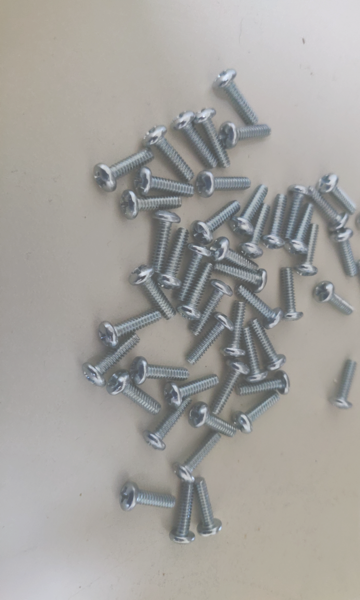shortscrew: (81, 332, 140, 388), (143, 125, 195, 183), (143, 397, 192, 452), (129, 265, 177, 321), (188, 279, 234, 337), (172, 431, 222, 484), (94, 149, 154, 193), (174, 111, 218, 170), (213, 69, 259, 125), (99, 309, 163, 349), (187, 312, 234, 366), (107, 370, 161, 415), (174, 242, 213, 304), (210, 358, 250, 415), (190, 200, 241, 244), (194, 109, 232, 168), (211, 358, 250, 415), (178, 262, 214, 321), (236, 285, 283, 330), (155, 228, 189, 290), (233, 391, 280, 435), (230, 183, 268, 237), (249, 319, 287, 371), (151, 210, 181, 274), (164, 375, 220, 409), (307, 186, 349, 231), (120, 190, 182, 220), (188, 402, 238, 439), (209, 237, 260, 273), (193, 478, 223, 537), (240, 203, 271, 259), (170, 482, 197, 545), (131, 357, 189, 386), (317, 174, 358, 215), (213, 264, 267, 295), (282, 184, 311, 241), (119, 483, 175, 512), (328, 359, 359, 410), (221, 300, 248, 358), (195, 171, 252, 198), (313, 281, 354, 316), (262, 194, 288, 249), (219, 122, 271, 149), (294, 223, 320, 277), (237, 371, 291, 396), (330, 229, 358, 277), (243, 327, 267, 383), (280, 268, 304, 322), (356, 260, 360, 306), (356, 210, 360, 232)
